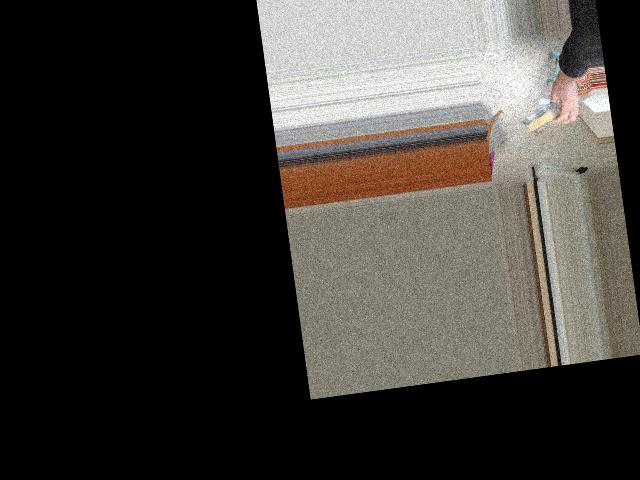cheese: (516, 95, 574, 137)
